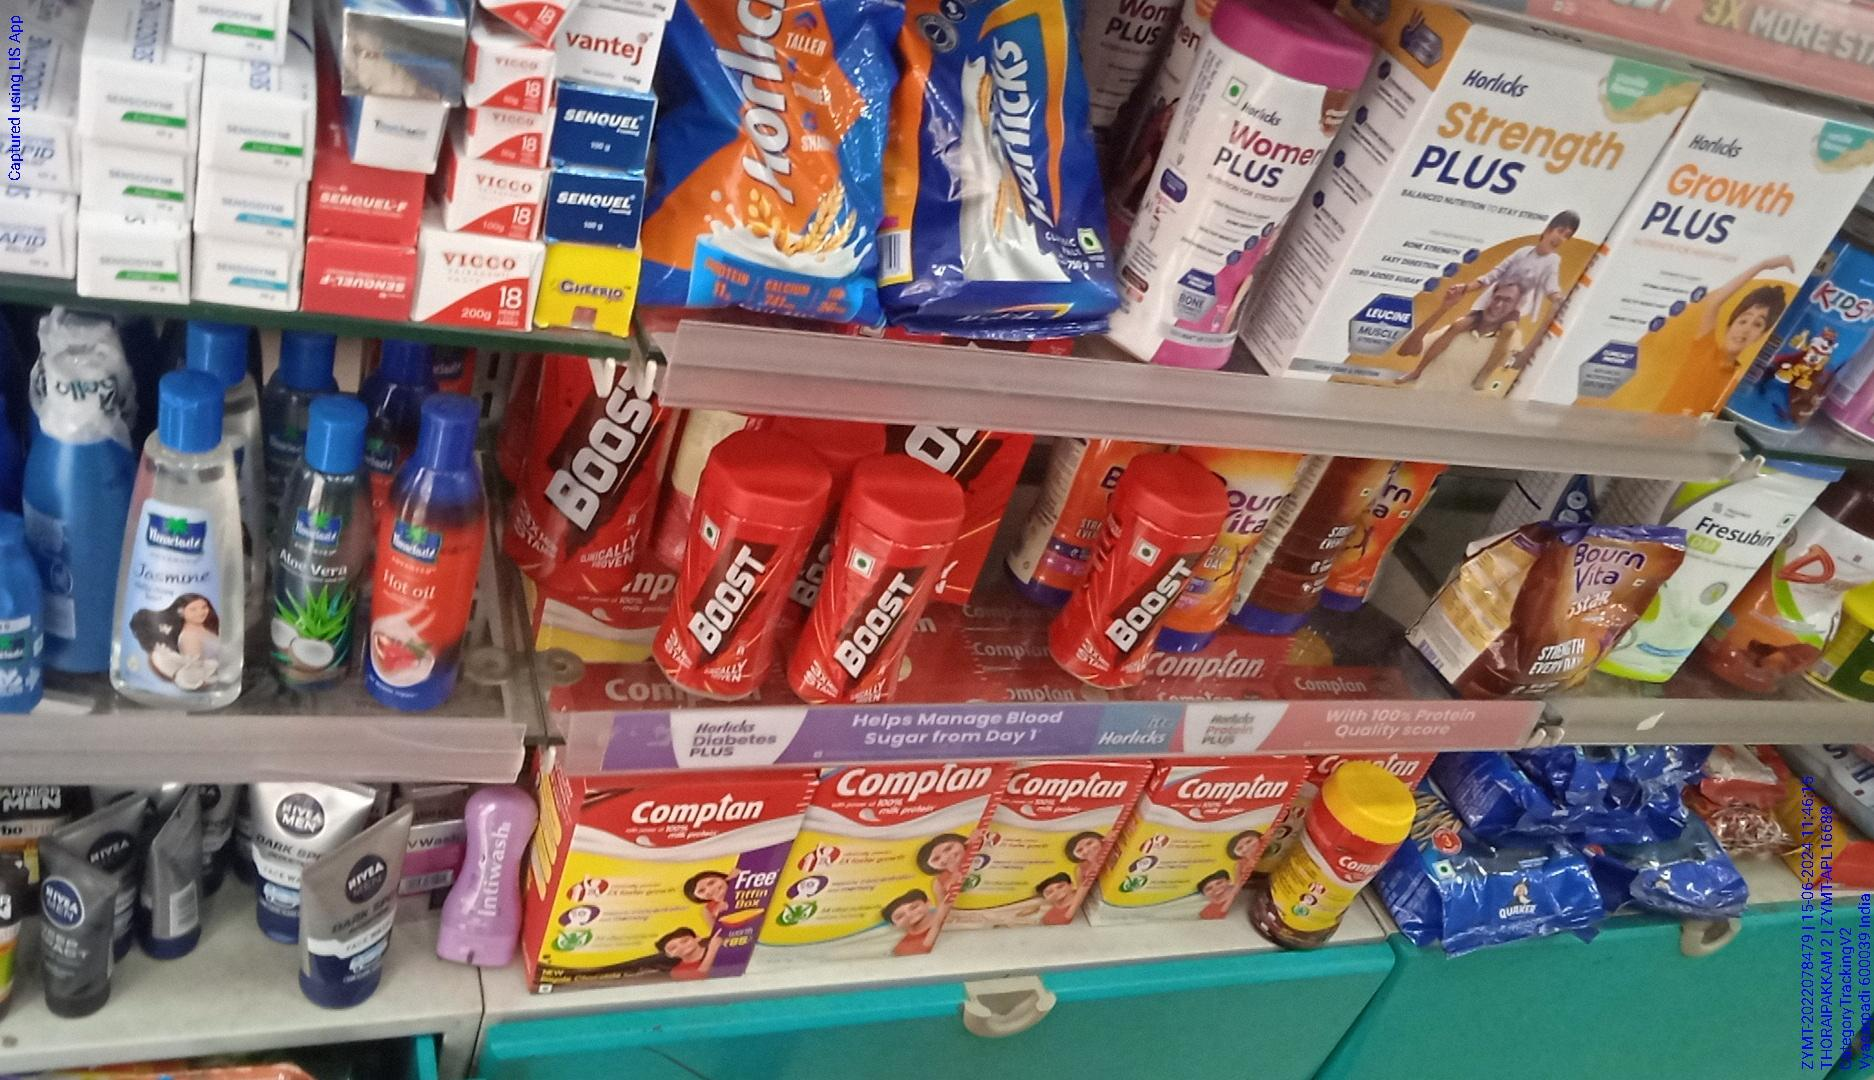COMPLAN_CHOCOLATE_500_GMS_PACK: (539, 772, 759, 994)
COMPLAN_CREAMY_CLASSIC_500_G_PACK: (779, 765, 946, 963)
COMPLAN_KESAR_BADAM_500_GMS_PACK: (955, 762, 1106, 935)
